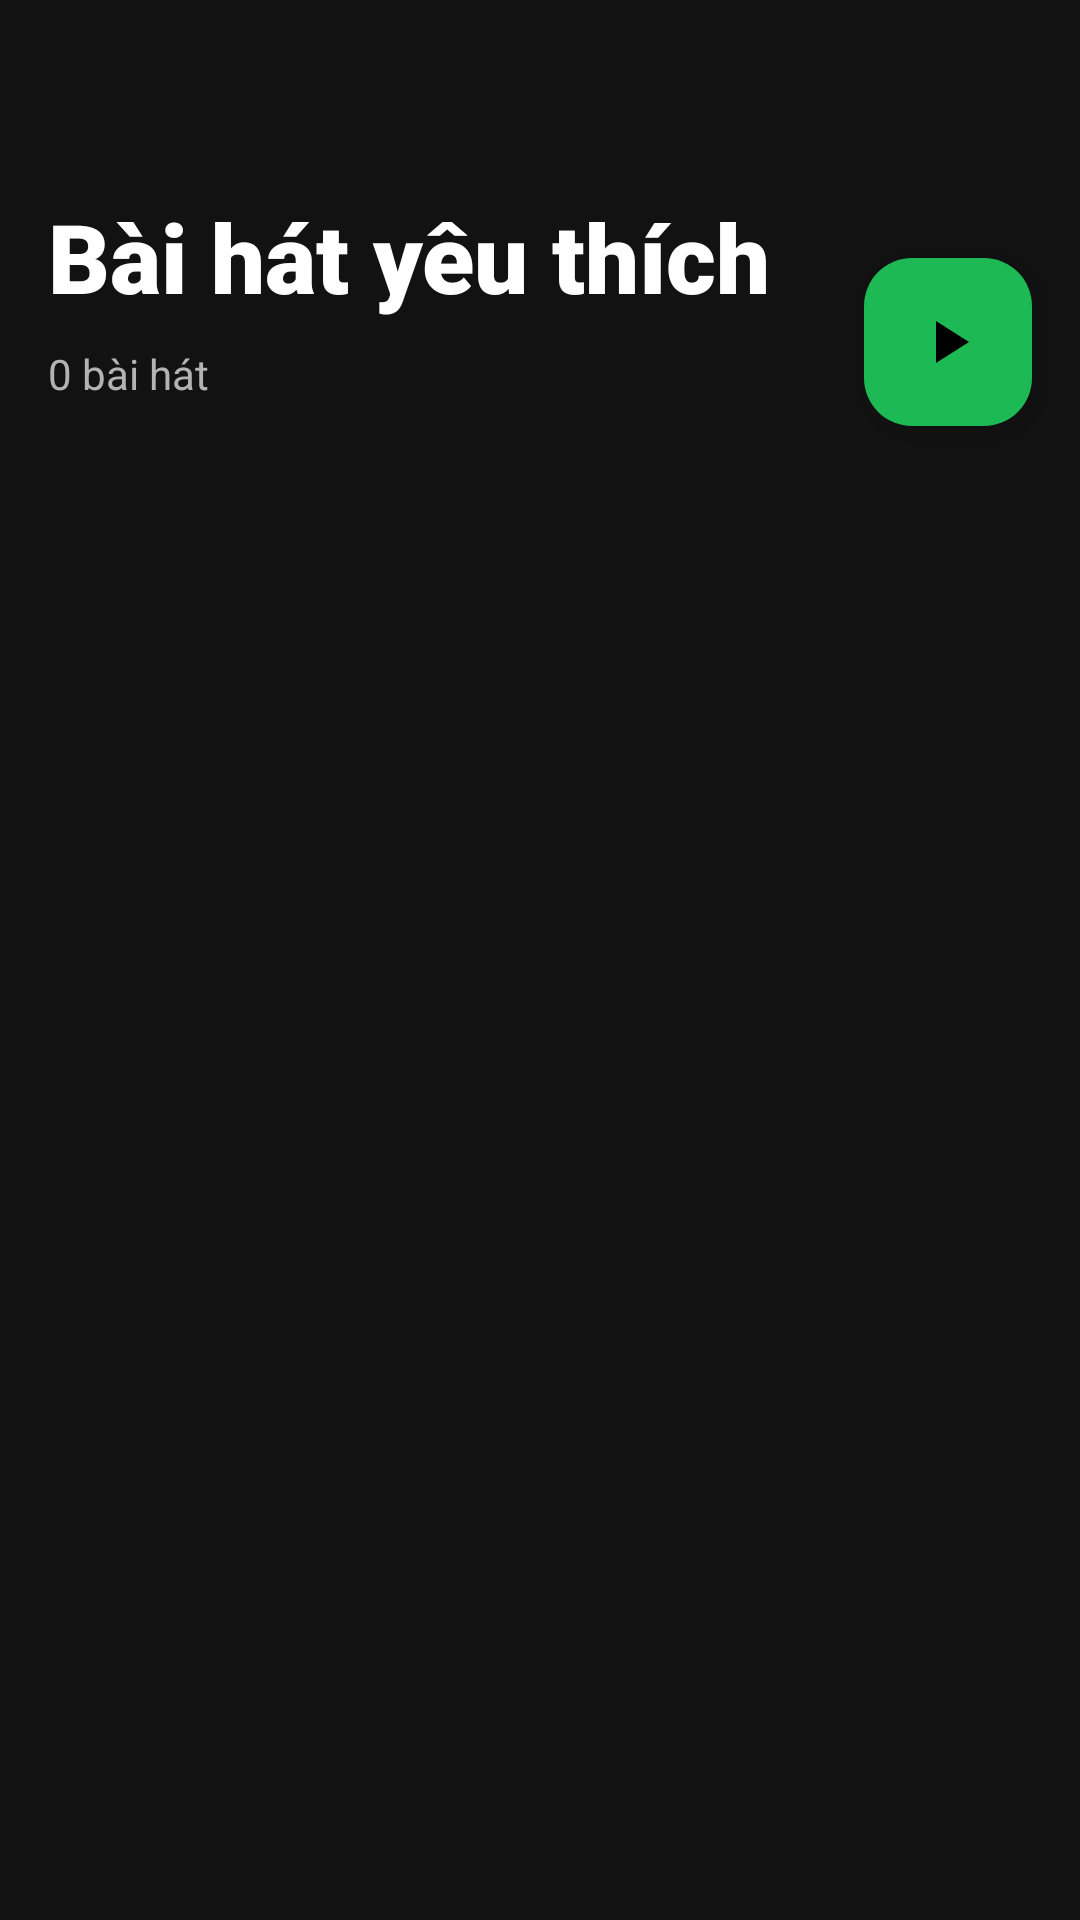

Icon click points for this 1080px×1920px phone screenshot, format (x=x, y=y):
play: (x=948, y=342)
